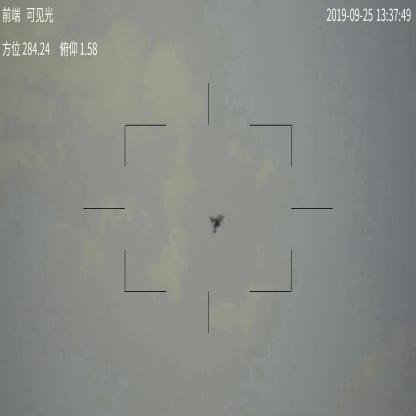uav: (206, 214, 227, 238)
